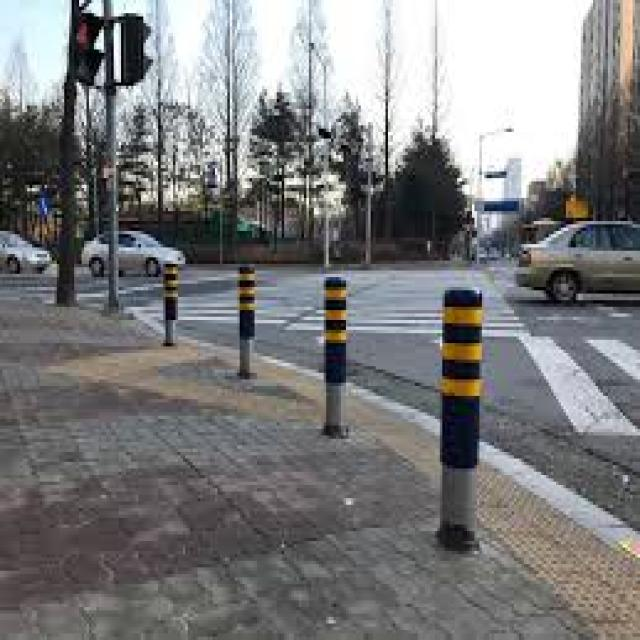bollard: (437, 282, 491, 568), (318, 268, 359, 443), (233, 252, 260, 378), (160, 253, 186, 354)
